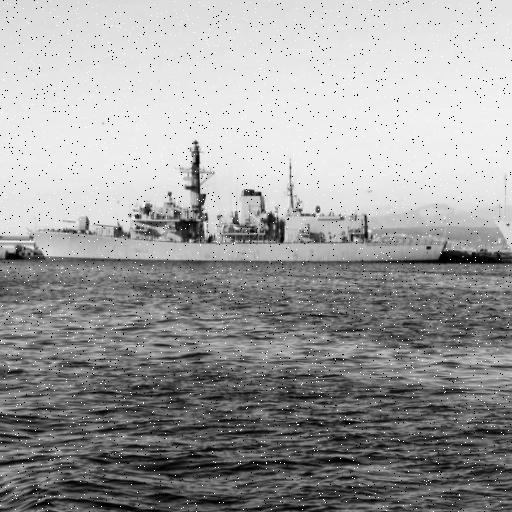Fragata: (28, 132, 452, 266)
